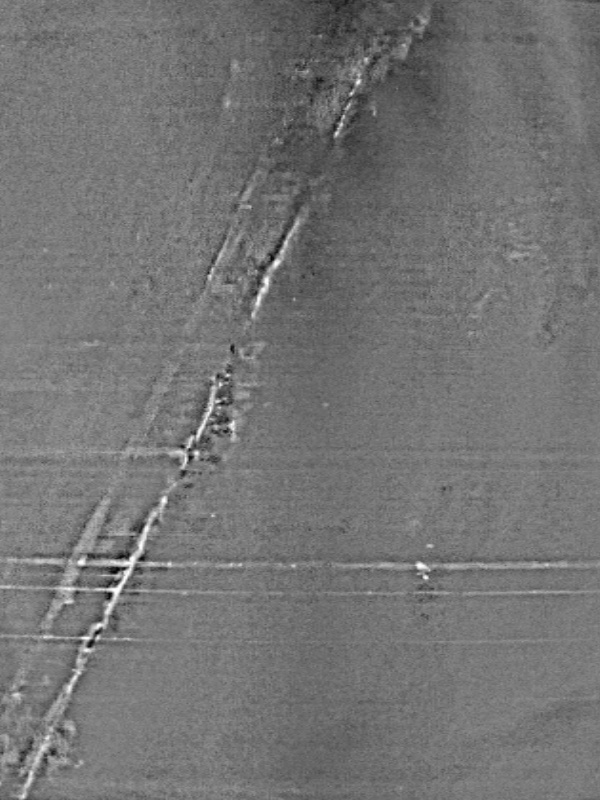splice_vulcanized: (1, 1, 431, 800)
